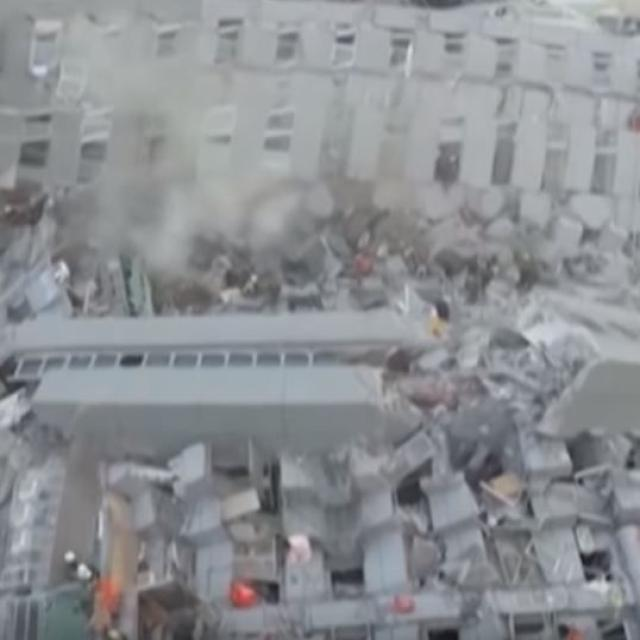collapsed_building: (0, 12, 639, 639)
